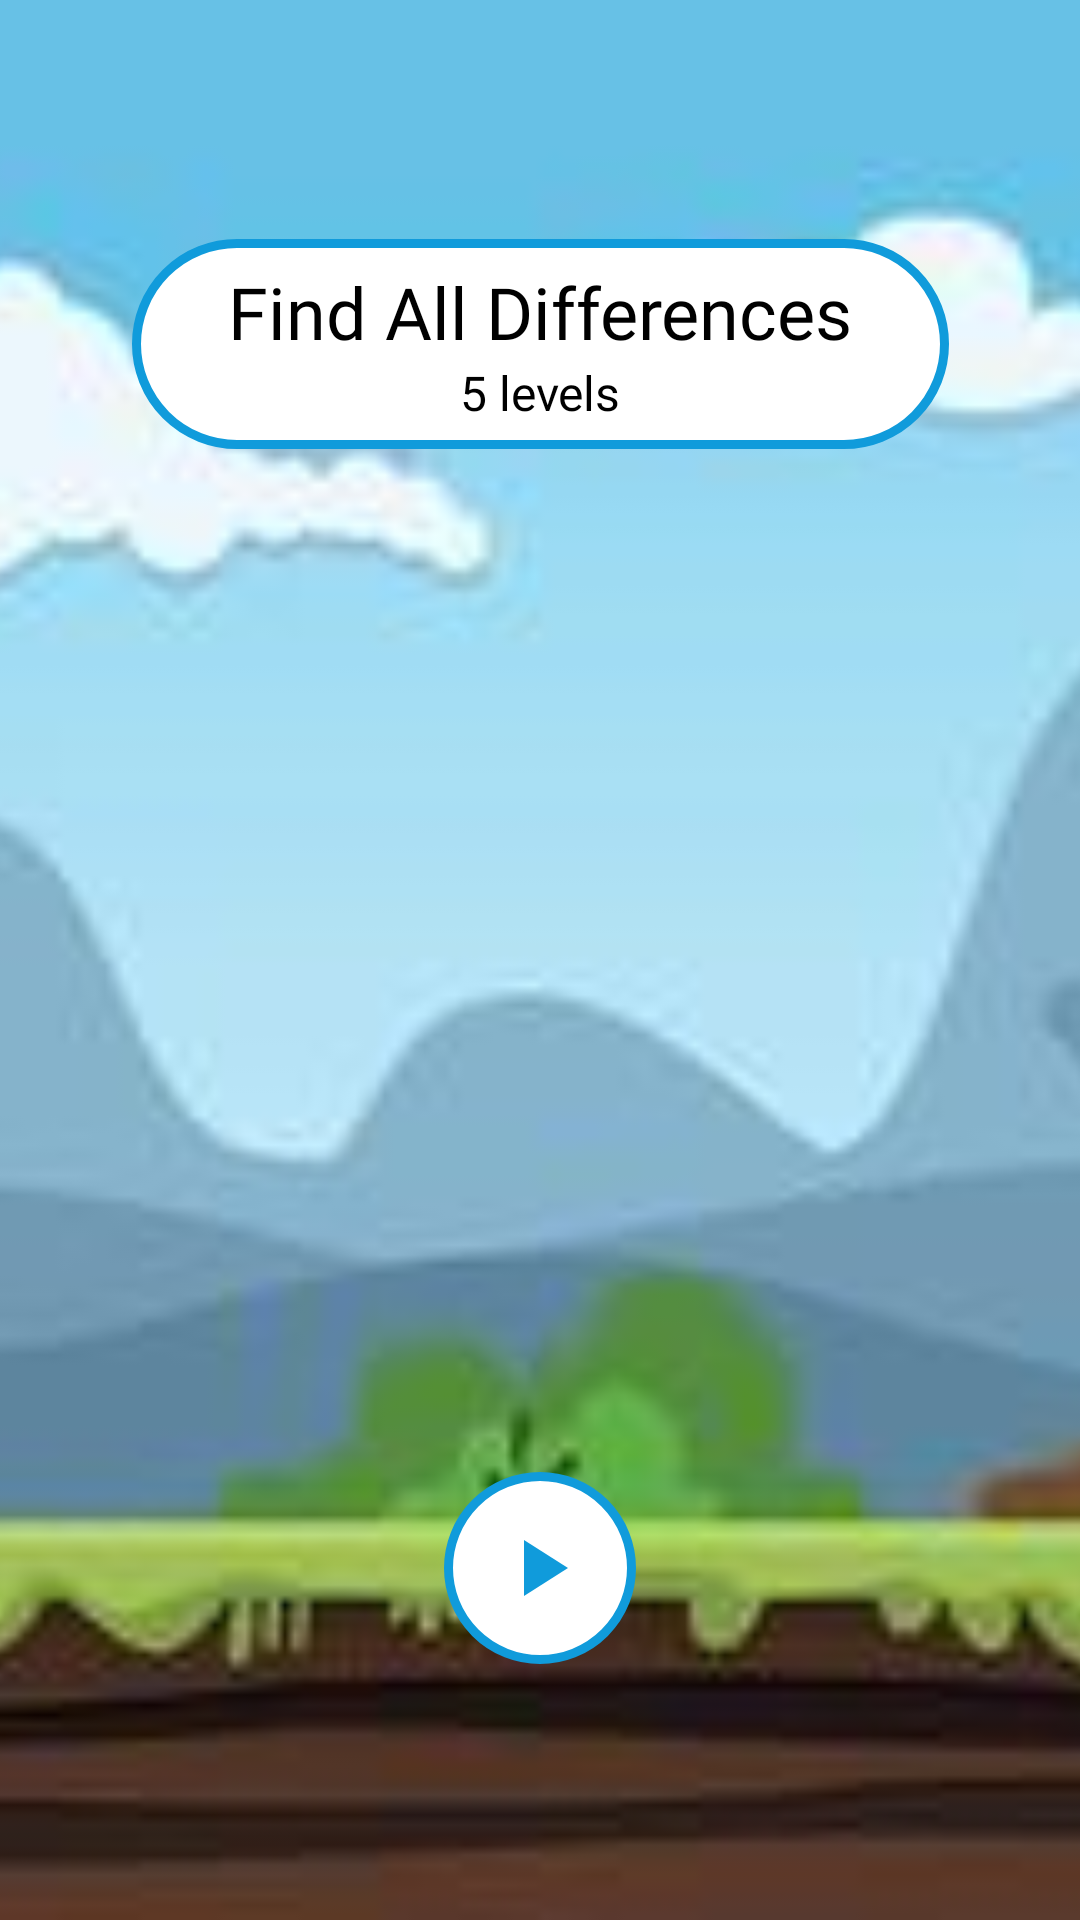

Named icons in this screenshot (1080x1920) and their centers, (x=x, y=y):
play arrow: (x=540, y=1568)
